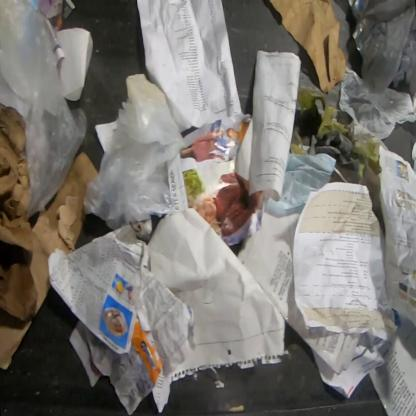cardboard: (0, 152, 101, 373), (0, 106, 32, 300)
soft_plastic: (0, 0, 87, 229), (86, 72, 185, 229), (340, 0, 415, 141)
